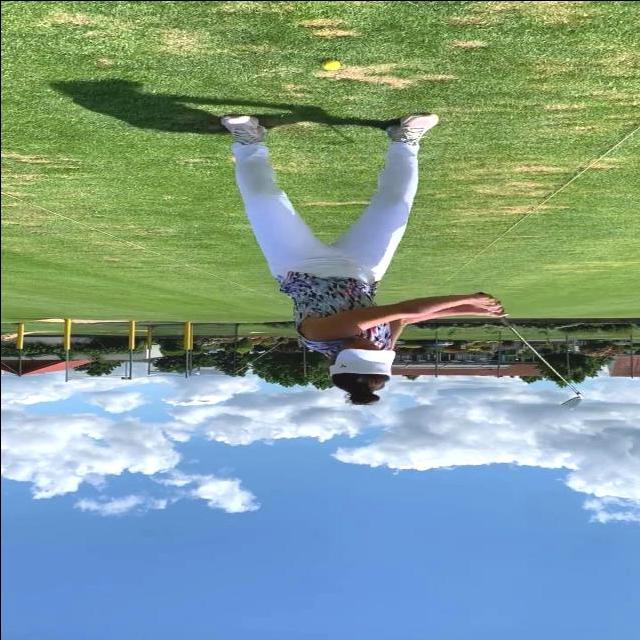golf ball: (322, 60, 338, 70)
golf club-handle: (476, 290, 585, 410)
golf club-head: (559, 395, 586, 408)
